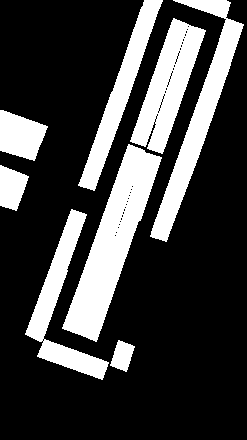parkingspot: (79, 144, 144, 288), (79, 215, 138, 341), (130, 34, 182, 146), (155, 25, 205, 128), (180, 58, 230, 156), (82, 92, 128, 181), (112, 7, 157, 97), (153, 150, 198, 232), (25, 264, 67, 341), (37, 339, 108, 379), (123, 152, 161, 220), (51, 209, 86, 270), (62, 282, 96, 334), (0, 110, 47, 144), (213, 18, 243, 63), (0, 129, 40, 160), (173, 0, 230, 18), (0, 165, 28, 194), (110, 340, 134, 371), (147, 123, 171, 153), (0, 185, 22, 210), (167, 18, 188, 40), (150, 226, 169, 241), (78, 175, 97, 190), (142, 0, 162, 12)
